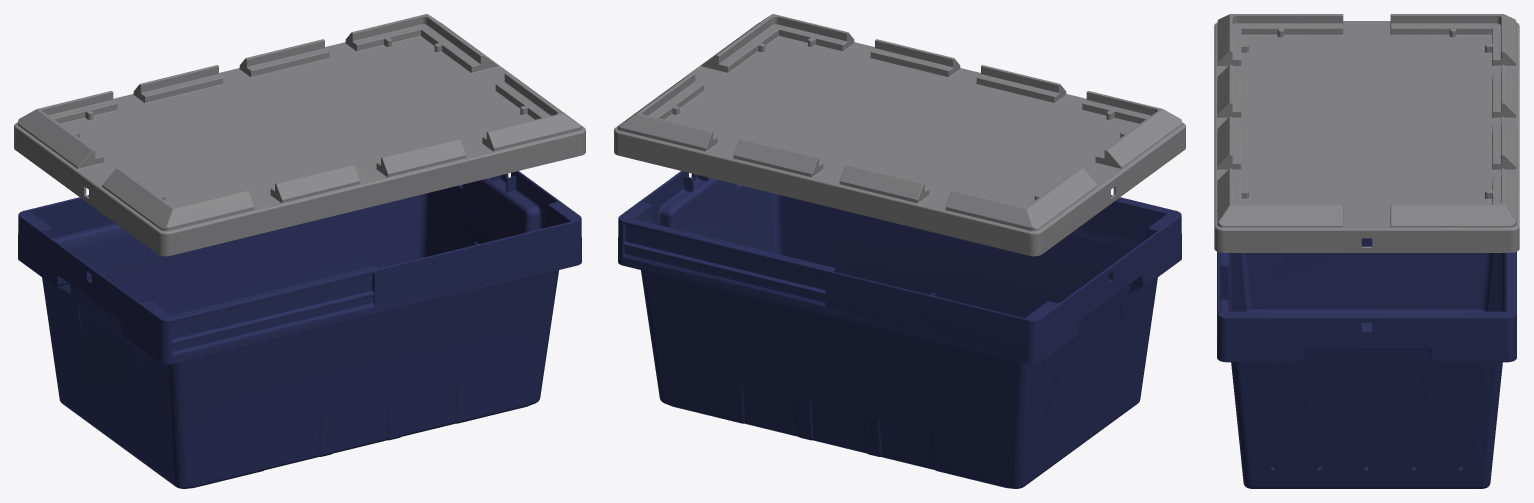
Rendered from pharmalink-caixa-media.glb.
3 renders of one model, left to right at view 1: azimuth 30°, elevation 25°; view 2: azimuth 150°, elevation 25°; view 3: azimuth 270°, elevation 25°, orthographic.
Parts seen in each view (by area): view 1: caixa, tampa; view 2: caixa, tampa; view 3: tampa, caixa.
Boxes of the visible parts, x1,y1,x2,y2 form: caixa: (18, 171, 581, 488); tampa: (14, 14, 585, 256); caixa: (618, 171, 1181, 488); tampa: (614, 14, 1185, 256); tampa: (1214, 14, 1519, 252); caixa: (1217, 238, 1516, 488).
Size of the model in its own units: 0.499 by 0.3265 by 0.308.
